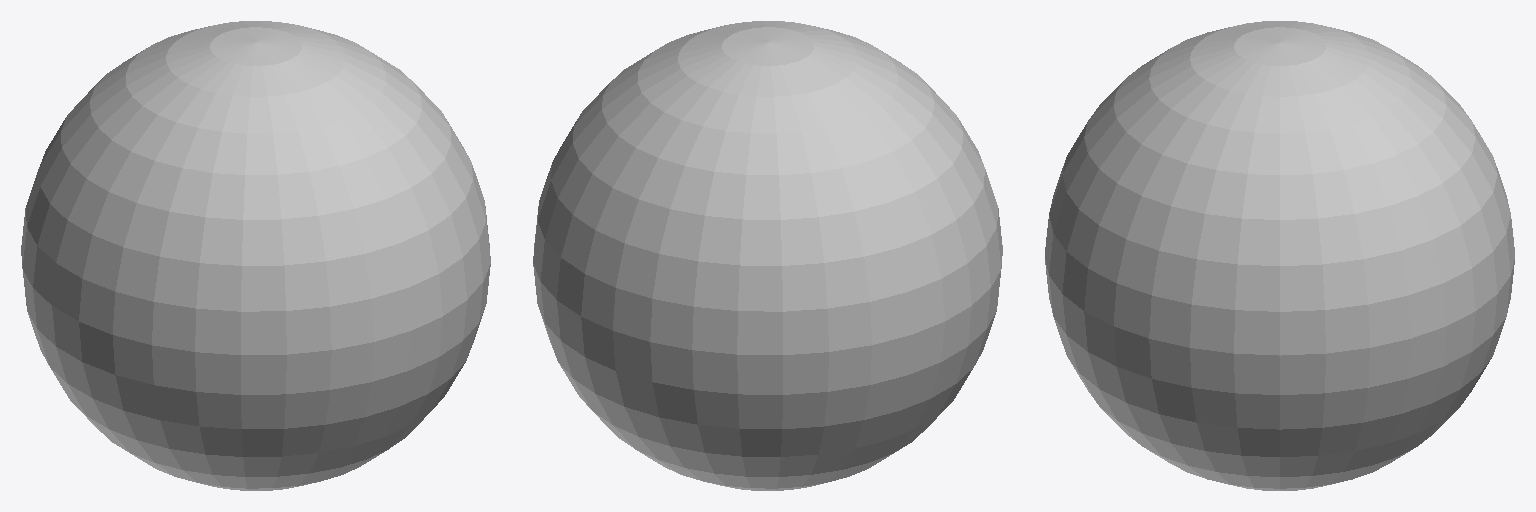
The model's file is europa.obj.
The picture shows the model from 3 angles: view 1: azimuth 30°, elevation 25°; view 2: azimuth 150°, elevation 25°; view 3: azimuth 270°, elevation 25°; orthographic projection.
Parts seen in each view (by area): view 1: Sphere_Sphere.002; view 2: Sphere_Sphere.002; view 3: Sphere_Sphere.002.
Part boxes in pixels (left/top/right/bottom): Sphere_Sphere.002: left=21, top=21, right=490, bottom=490; Sphere_Sphere.002: left=533, top=21, right=1002, bottom=490; Sphere_Sphere.002: left=1045, top=21, right=1514, bottom=490.
Bounding box in the file's own units: 3.12 × 3.12 × 3.12.